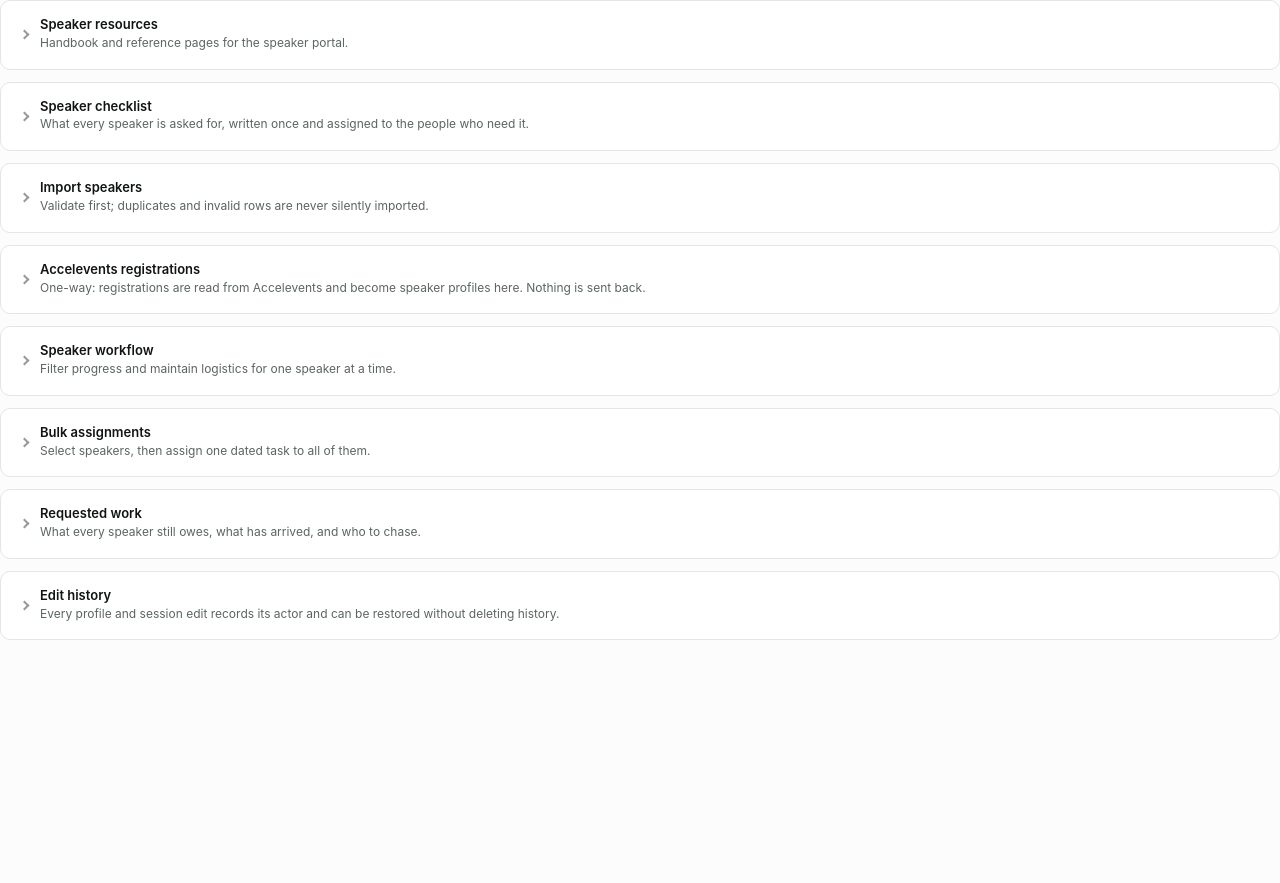
Test case: the organizer's tool panels › appends a new resource rather than dropping it on top of the list
The image size is (1280, 883).
Click the heading that starts with "Speaker resources". click: x=194, y=33
box: top-left (40, 16), bottom-right (348, 50)
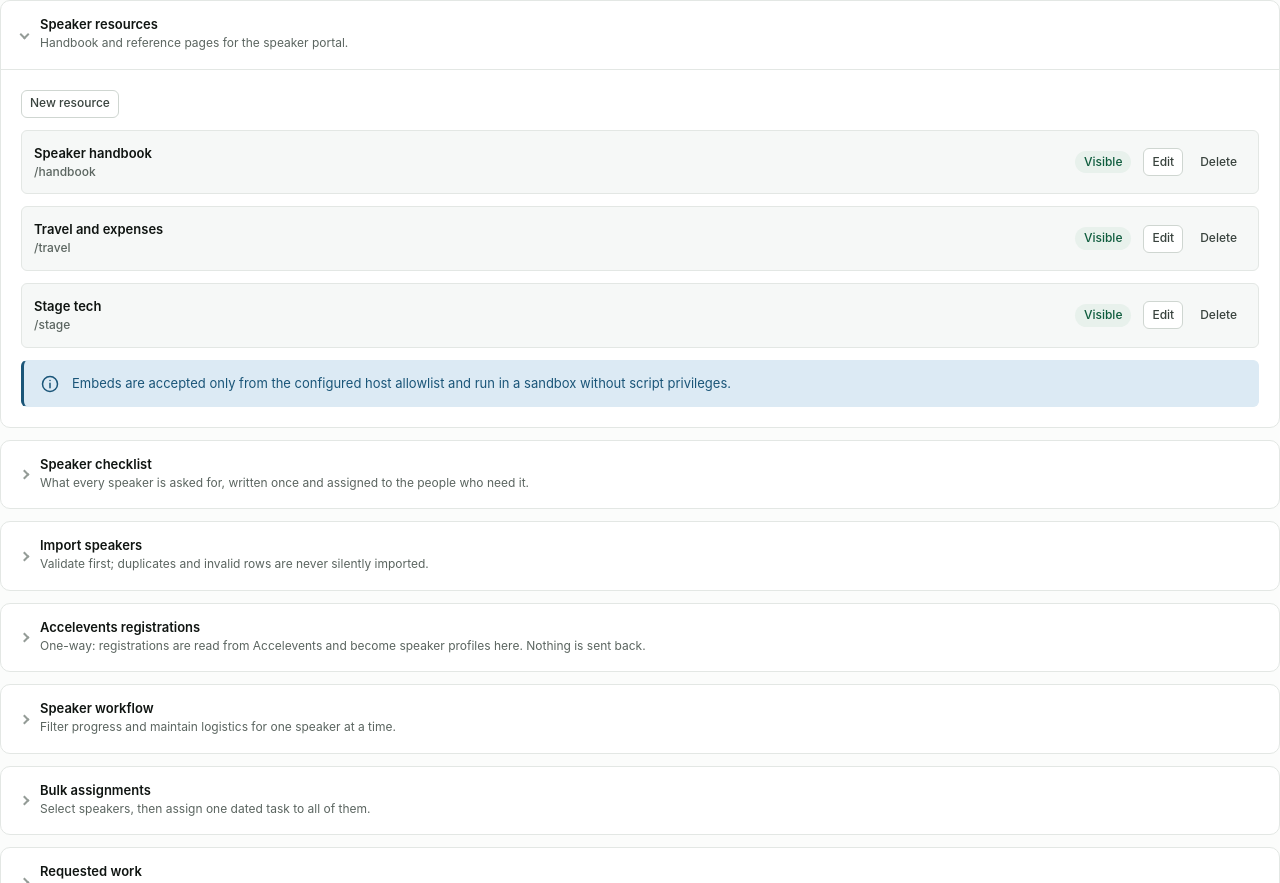
Click the button "New resource". click: x=70, y=104
box: top-left (21, 90), bottom-right (119, 118)
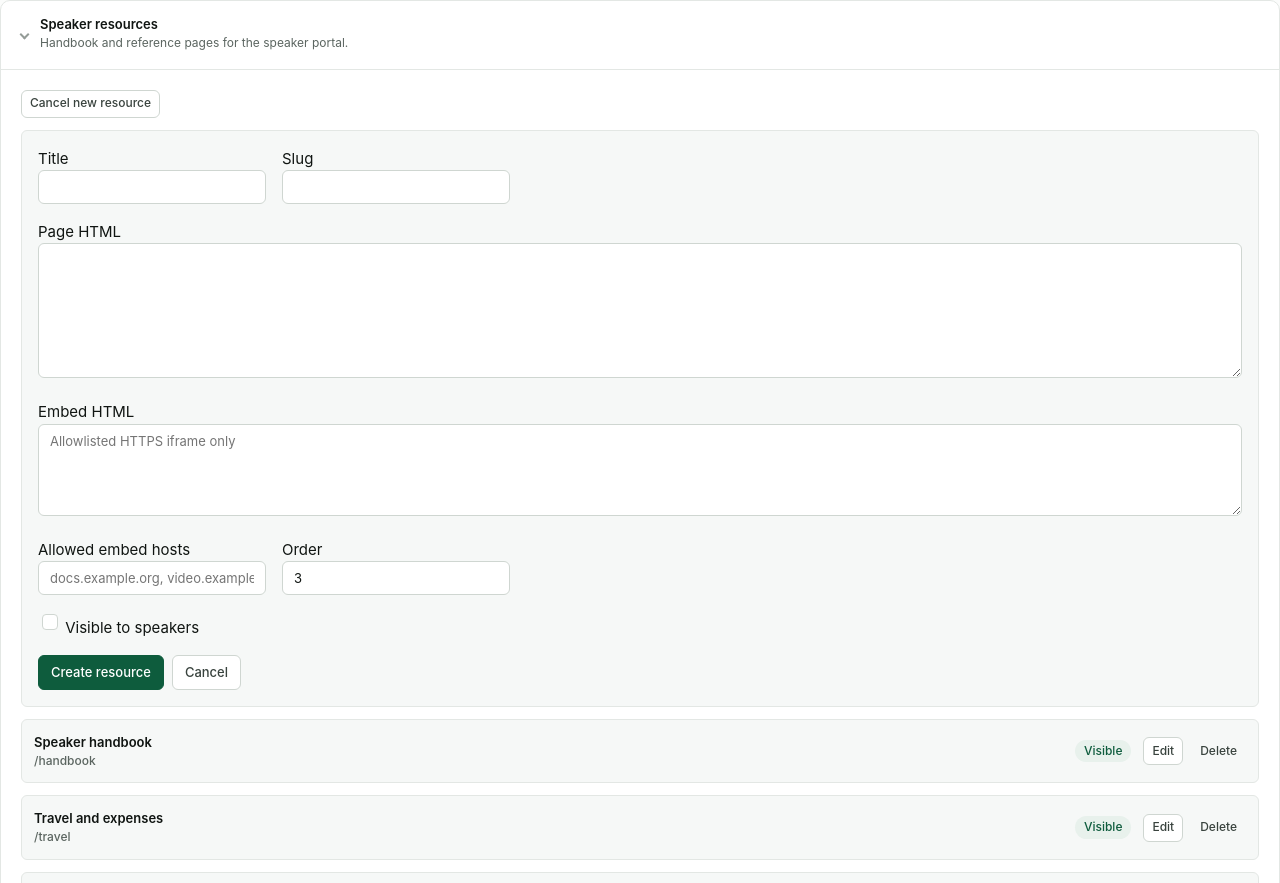
Expected: the number field labelled "Order" holds "3", top-left (282, 561), bottom-right (510, 595)
Click the button named "Edit Speaker handbook". click: x=1163, y=751
box: top-left (1143, 737), bottom-right (1183, 765)
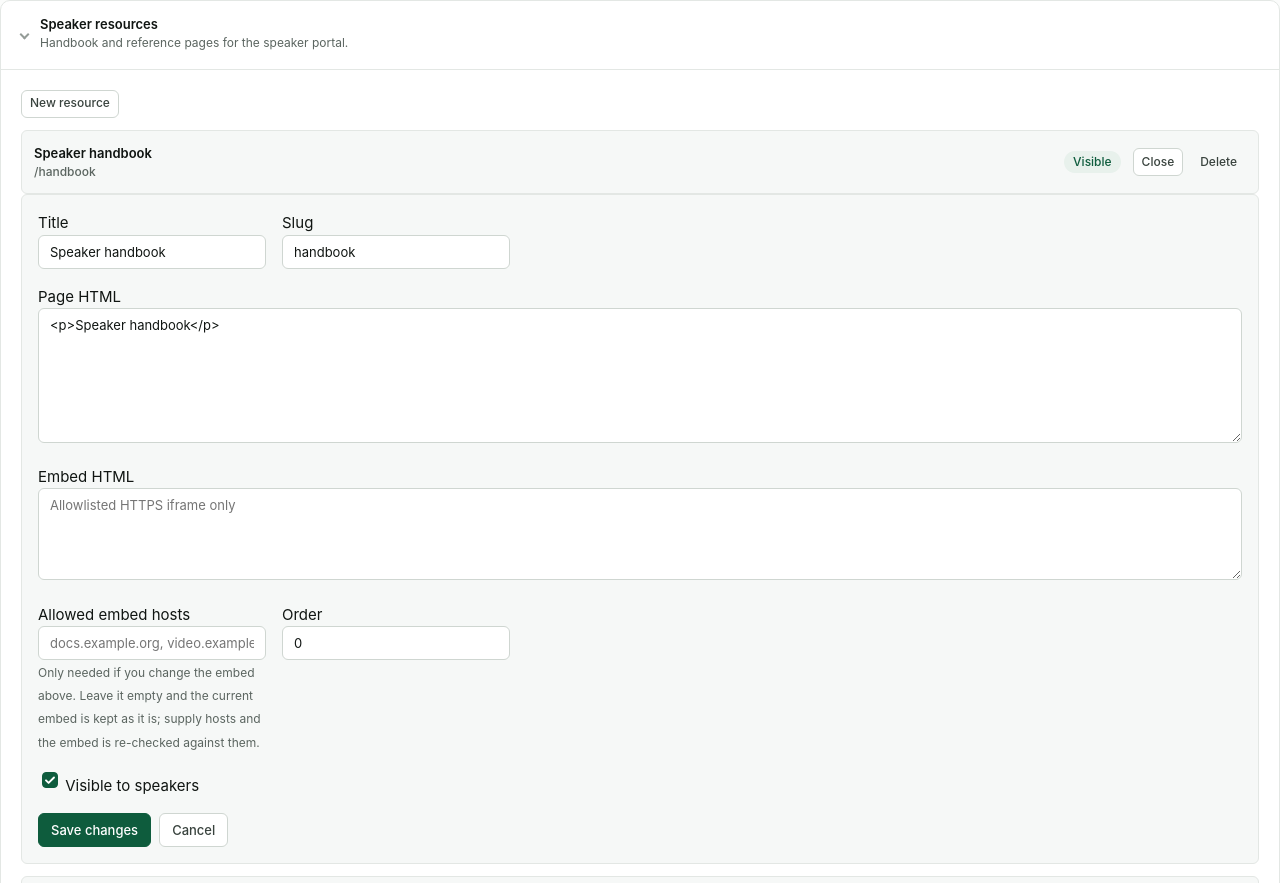
Expected: the number field labelled "Order" holds "0", top-left (282, 626), bottom-right (510, 660)
